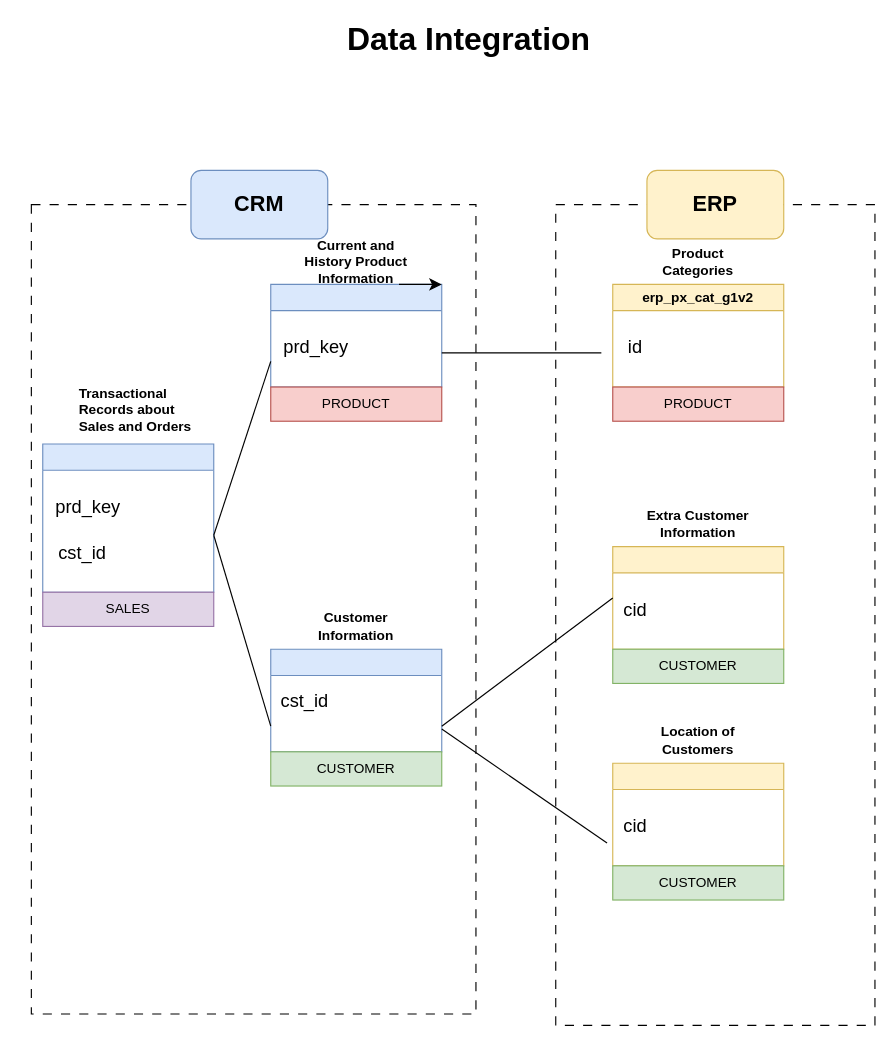
Some shapes in this 895 by 1045 pixel diagram are drawn without their labels. Each missing label, with the box of its shape:
crm_cust_info: (270, 648, 442, 752)
crm_prd_info: (270, 283, 442, 387)
crm_sales_details: (42, 443, 214, 592)
erp_cust_az12: (612, 545, 784, 649)
erp_loc_a101: (612, 762, 784, 866)
